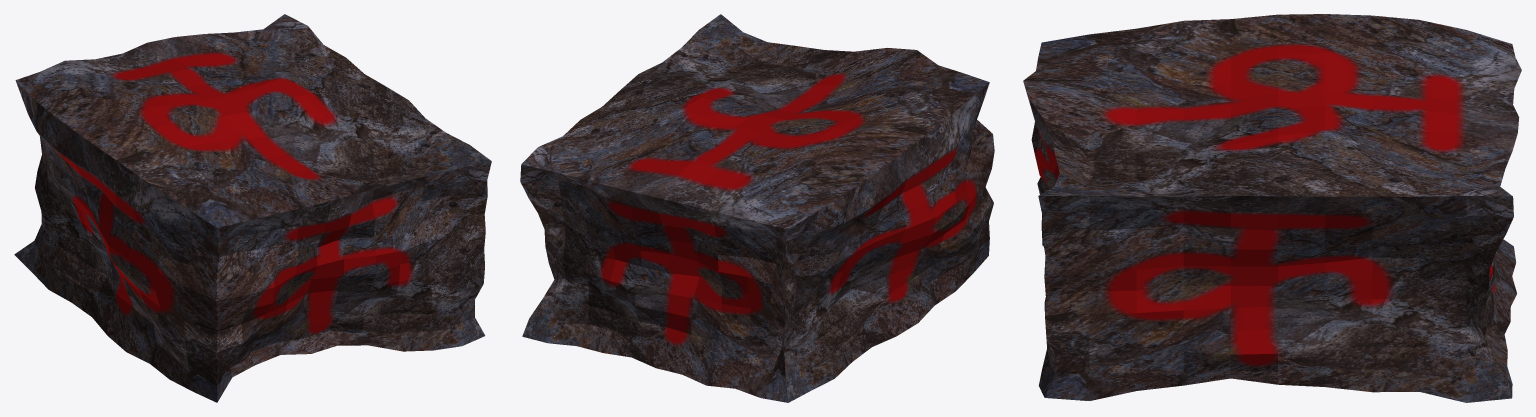
3 views of the same model, side by side, from view 1: azimuth 30°, elevation 25°; view 2: azimuth 150°, elevation 25°; view 3: azimuth 270°, elevation 25° (orthographic). The views are drawn at different scales.
Parts seen in each view (by area): view 1: brick2; view 2: brick2; view 3: brick2.
Boxes of the visible parts, box(x1,y1,x2,y2) form: brick2: box(14, 14, 491, 402); brick2: box(520, 14, 994, 402); brick2: box(1023, 14, 1521, 402).
Size of the model in its own units: 0.3829 by 0.2433 by 0.4732.
1 material, 1 textured.
